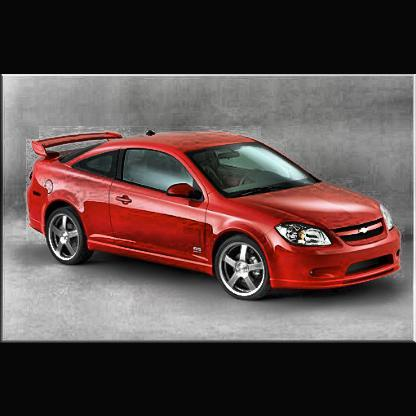Chevrolet Cobalt SS 2010: (25, 129, 404, 301)
